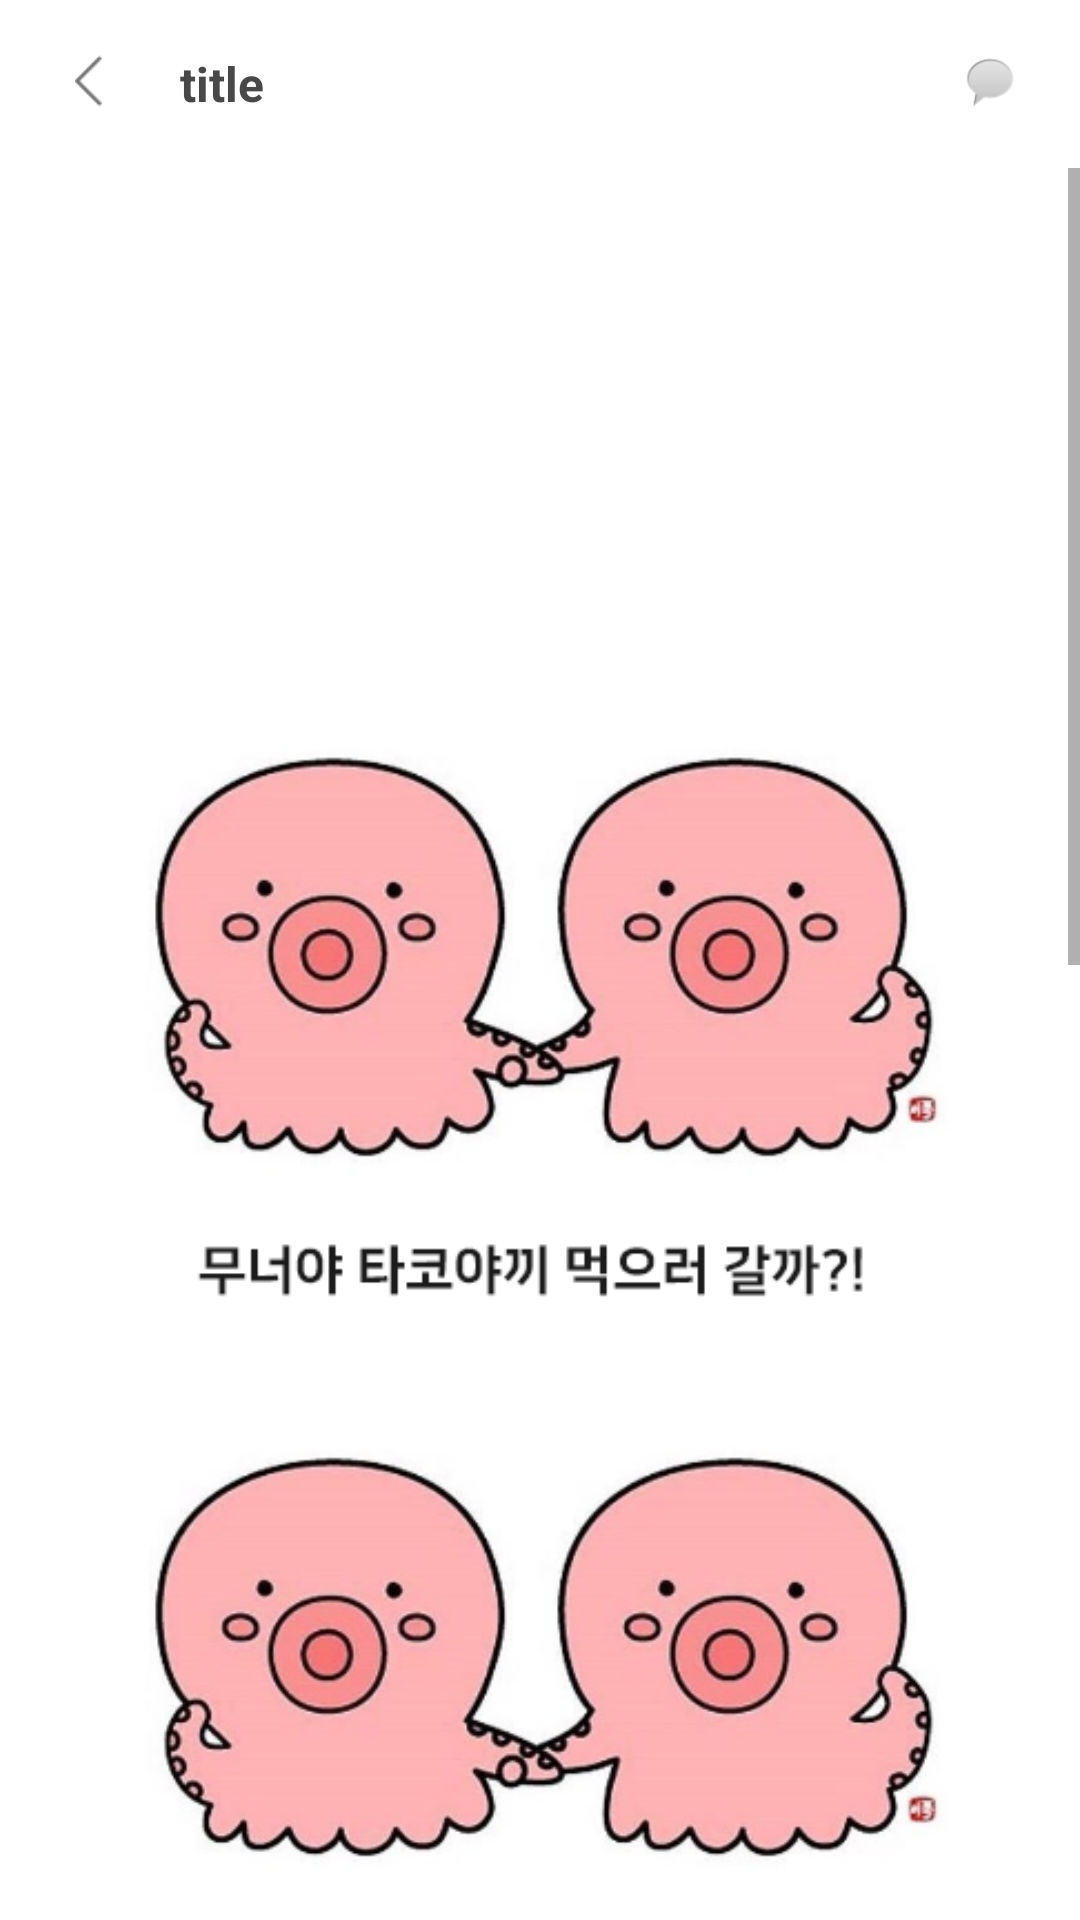

Icons on this 1080 x 1920 Android screen, each with its box as Rect(x1, y1, x2, y2):
back: Rect(75, 56, 102, 106)
sym action chat: Rect(967, 59, 1013, 106)
